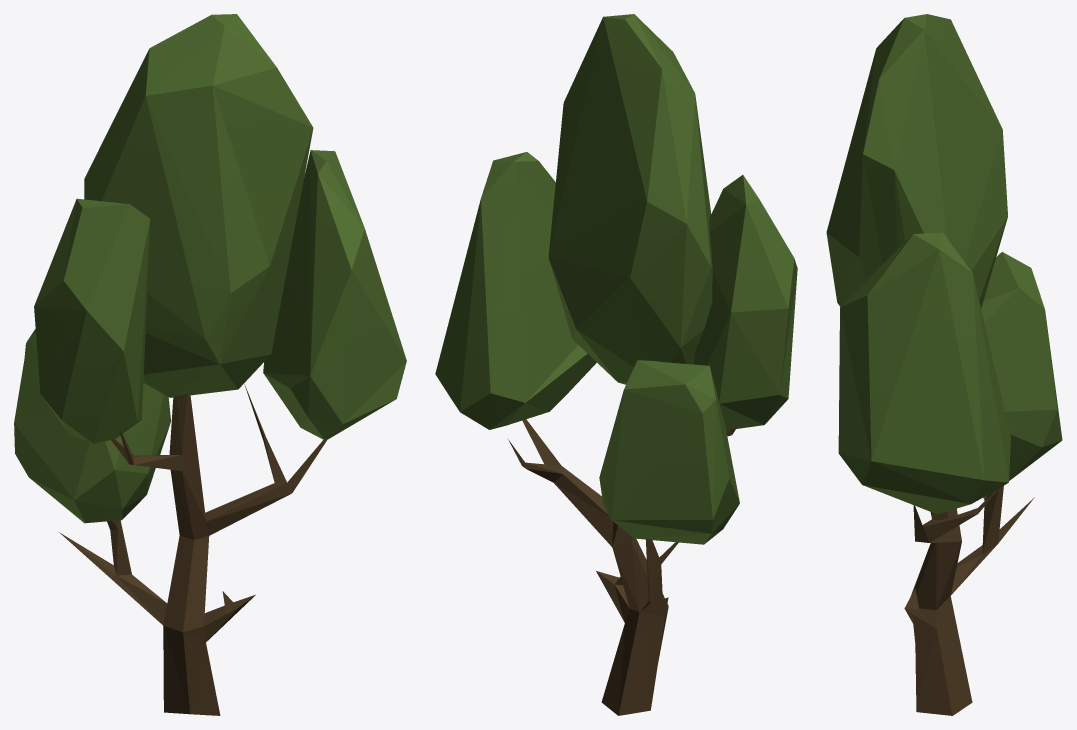
File: BroadleafNarrowA.glb
3 renders of one model, left to right at view 1: azimuth 30°, elevation 25°; view 2: azimuth 150°, elevation 25°; view 3: azimuth 270°, elevation 25°, orthographic. The views are drawn at different scales.
Parts seen in each view (by area): view 1: BroadleafNarrowA_LOD0; view 2: BroadleafNarrowA_LOD0; view 3: BroadleafNarrowA_LOD0.
Boxes of the visible parts, bbox=[...] form: BroadleafNarrowA_LOD0: bbox=[14, 14, 406, 715]; BroadleafNarrowA_LOD0: bbox=[435, 14, 797, 715]; BroadleafNarrowA_LOD0: bbox=[826, 14, 1062, 715].
Size of what is drawn, in the model's own units: 3.85 by 7.55 by 2.32.
